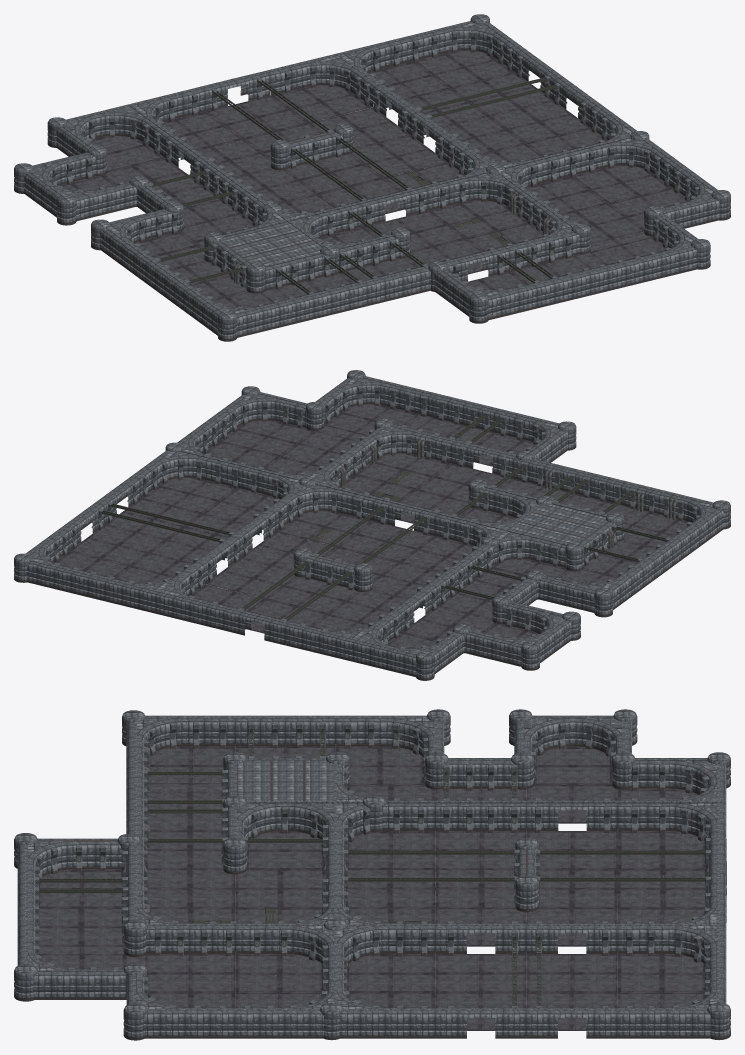
File: Level_01.fbx
3 views of the same model, one above another, from view 1: azimuth 30°, elevation 25°; view 2: azimuth 150°, elevation 25°; view 3: azimuth 270°, elevation 25° (orthographic). The views are drawn at different scales.
Parts seen in each view (by area): view 1: Level_01; view 2: Level_01; view 3: Level_01.
Part boxes in pixels (x1,y1,x2,y2): Level_01: (14, 14, 730, 341); Level_01: (14, 370, 730, 680); Level_01: (14, 709, 730, 1040).
Size of the model in its own units: 78.93 by 3.78 by 78.7.
